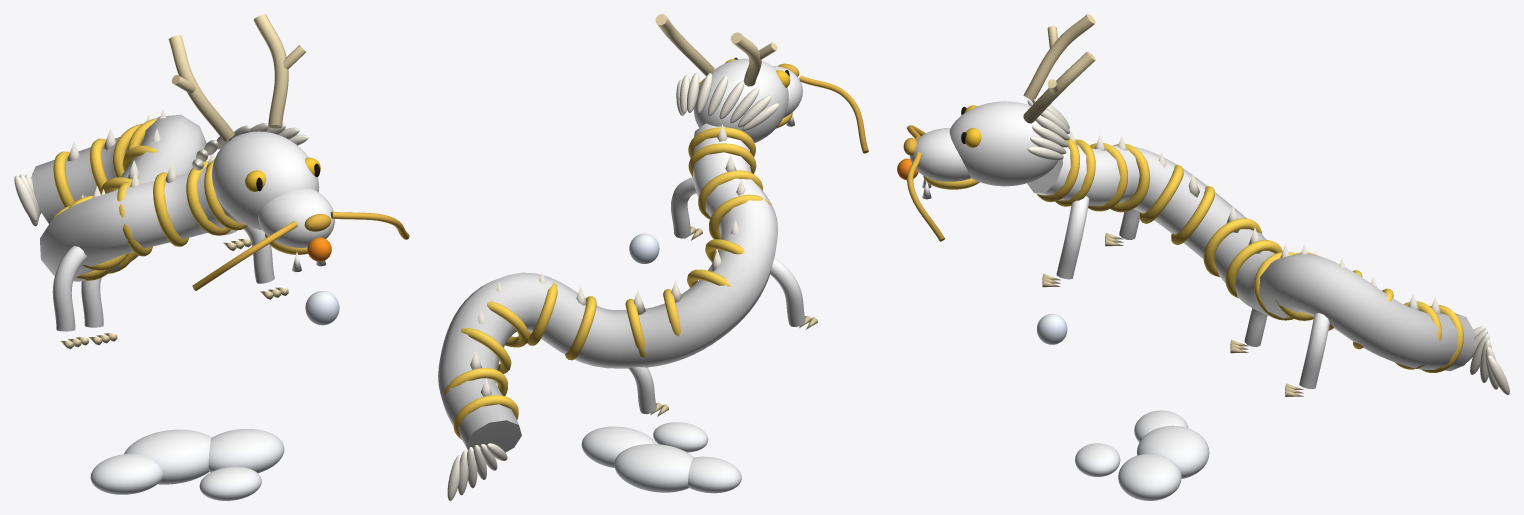
The model's file is dragon.glb.
The picture shows the model from 3 angles, left to right: view 1: azimuth 30°, elevation 25°; view 2: azimuth 150°, elevation 25°; view 3: azimuth 270°, elevation 25°; orthographic projection. The views are drawn at different scales.
Visible parts, largest first — view 1: Dragon_fijo; view 2: Dragon_fijo; view 3: Dragon_fijo.
Part boxes in pixels (box(x1,y1,x2,y2)): Dragon_fijo: box(14, 14, 409, 500); Dragon_fijo: box(438, 14, 868, 500); Dragon_fijo: box(897, 14, 1509, 500).
Size of the model in its own units: 2.54 by 4.16 by 5.28.
2 materials, 2 textured.
